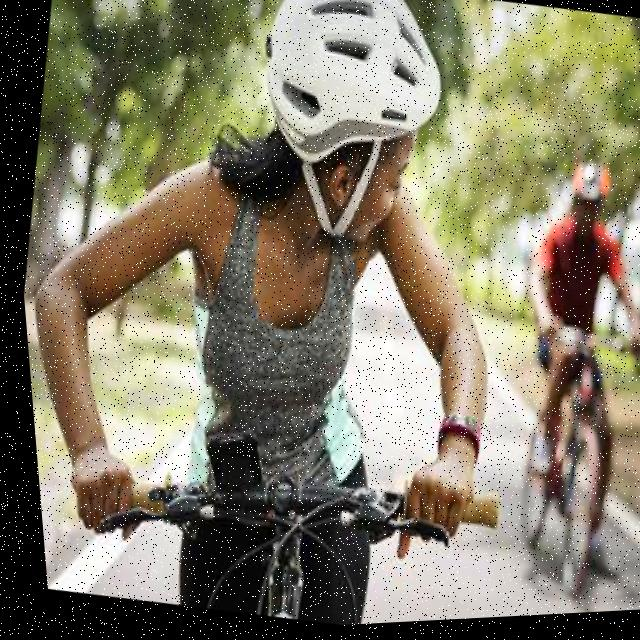illegal_helmet: (219, 0, 470, 274)
